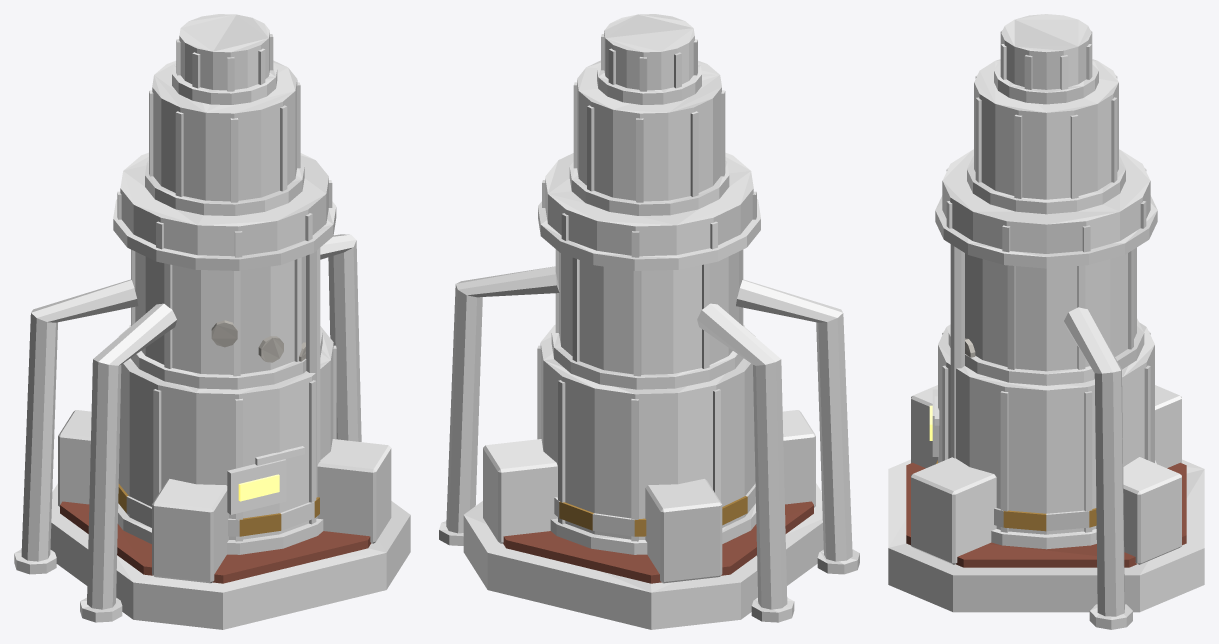
Rendered from Machine_Pump.fbx.
The picture shows the model from 3 angles, left to right: view 1: azimuth 30°, elevation 25°; view 2: azimuth 150°, elevation 25°; view 3: azimuth 270°, elevation 25°; orthographic projection.
Visible parts, largest first — view 1: Machine_Pump; view 2: Machine_Pump; view 3: Machine_Pump.
Part boxes in pixels (bbox=[...]): Machine_Pump: bbox=[14, 14, 410, 629]; Machine_Pump: bbox=[439, 14, 859, 629]; Machine_Pump: bbox=[888, 14, 1204, 629].
Bounding box in the file's own units: 4.43 × 6.26 × 3.5.
